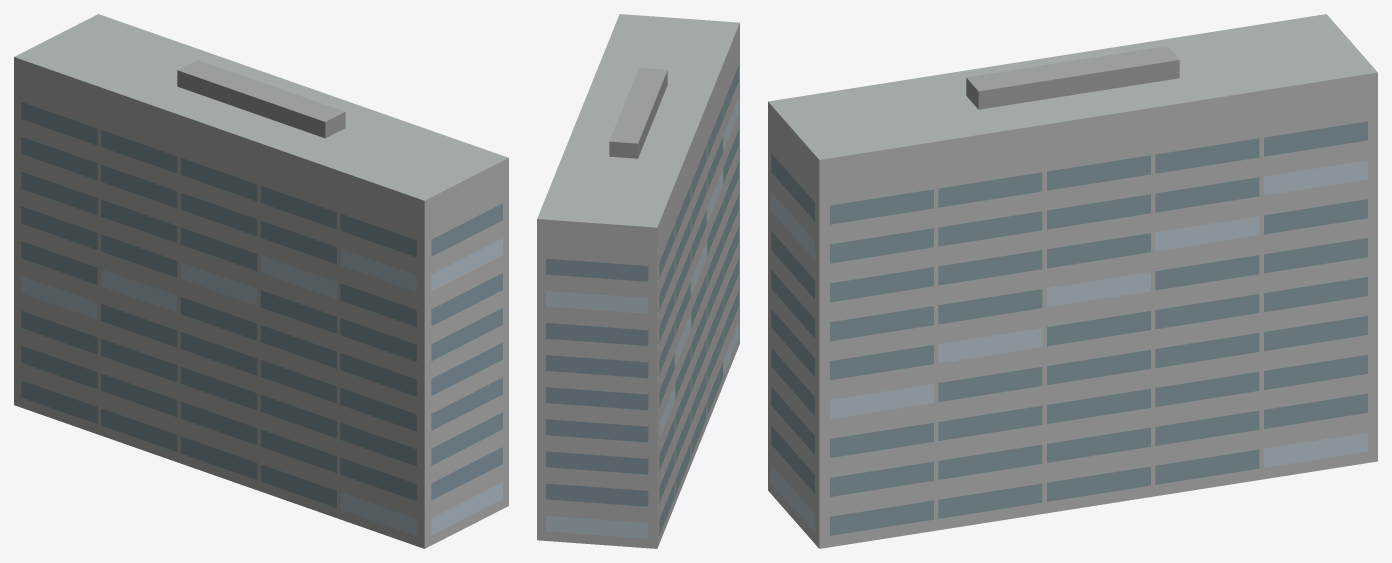
The model's file is apt-a13780006.glb.
3 views of the same model, side by side, from view 1: azimuth 30°, elevation 25°; view 2: azimuth 150°, elevation 25°; view 3: azimuth 270°, elevation 25° (orthographic). The views are drawn at different scales.
Parts seen in each view (by area): view 1: apt-a13780006; view 2: apt-a13780006; view 3: apt-a13780006.
Boxes of the visible parts, x1,y1,x2,y2 form: apt-a13780006: (14,14,508,548); apt-a13780006: (537,14,739,548); apt-a13780006: (768,14,1377,548).
Bounding box in the file's own units: 26.14 × 34 × 46.14.
